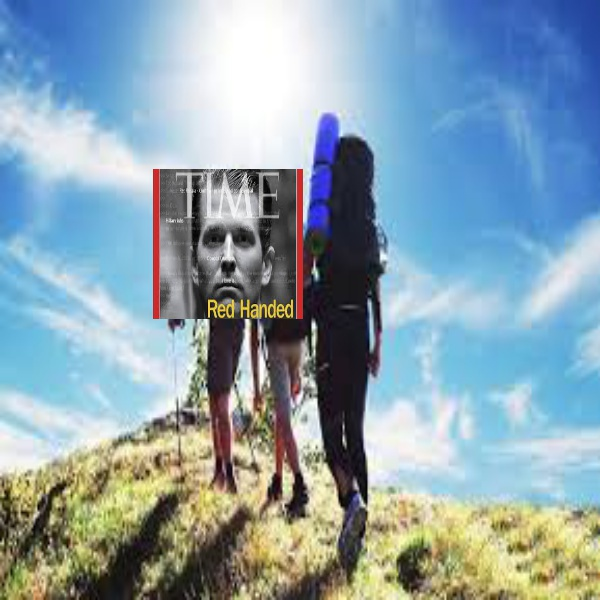time_cover: (142, 159, 305, 324)
